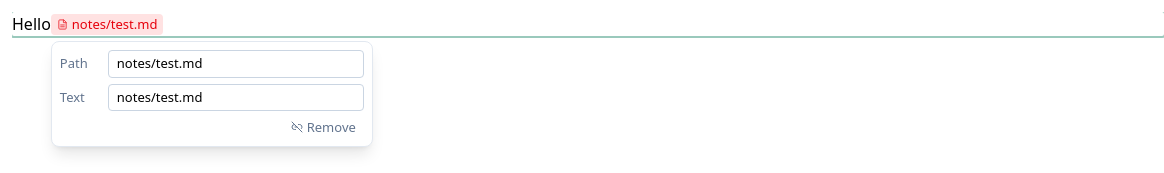
LinkEditorPopover — wiki-link mode (DOC-4.7-02, 4.7-06, 4.7-10, 4.7-11) › DOC-4.3-14: Escape in the display-text input reverts to the prior display value
The image size is (1164, 173).
expect the text "Path" is shown: met, box top-left (60, 54), bottom-right (88, 72)
Replace the text in the field next to "Text" with "Edited label": (236, 97) top-left (108, 84), bottom-right (364, 111)
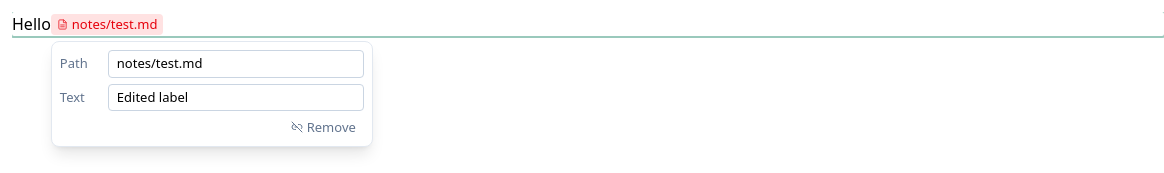
Press Escape in the field next to "Text", box top-left (108, 84), bottom-right (364, 111)
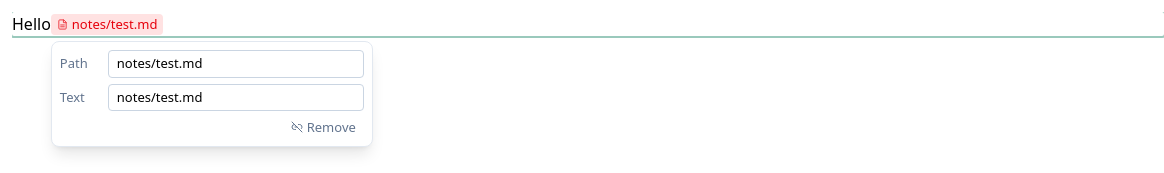
expect the field next to "Text" holds "notes/test.md": met, box top-left (108, 84), bottom-right (364, 111)
